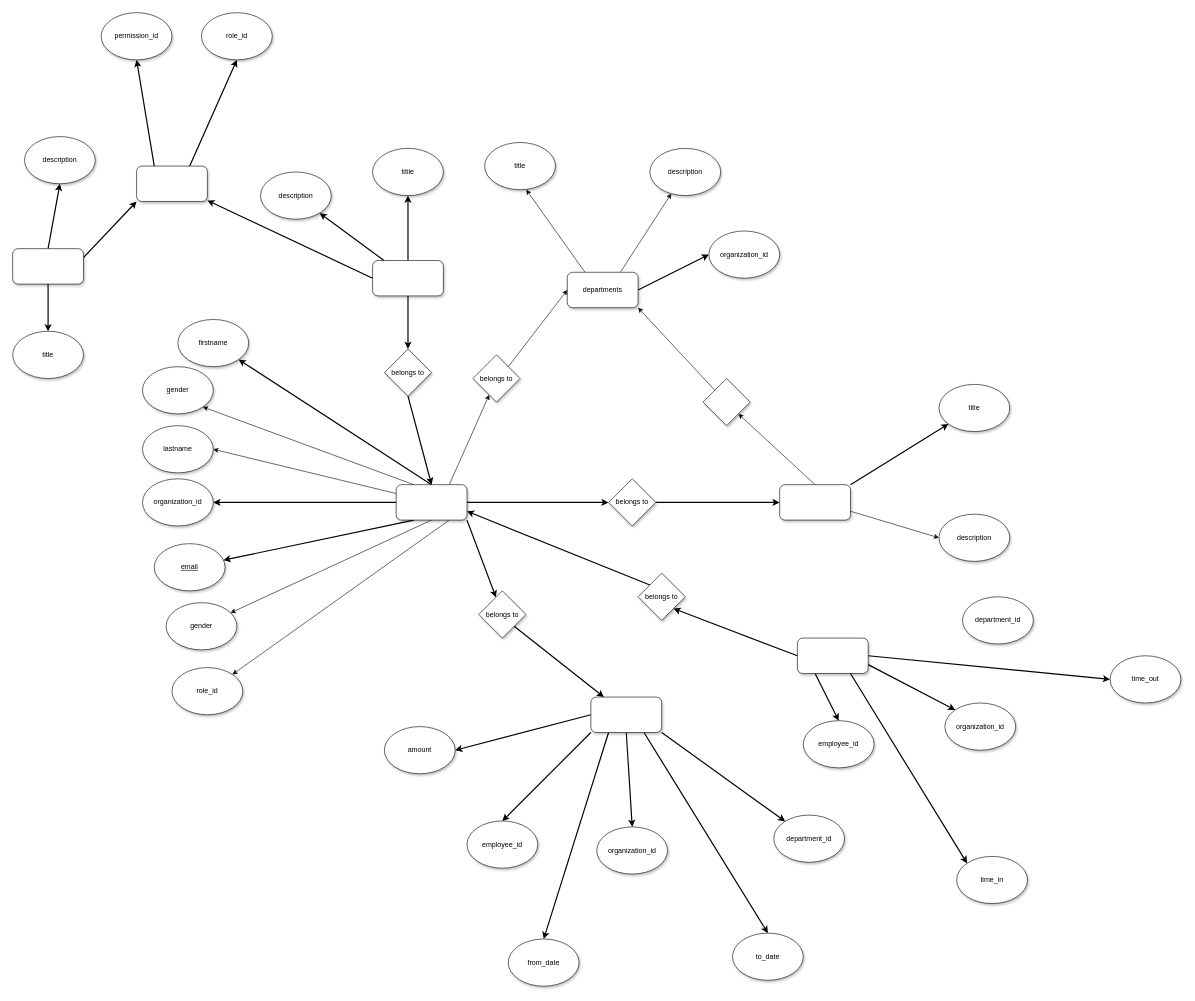
The diagram is 1195 pixels wide and 1001 high, and some of its shapes have lost their labels. The centre of each missing label's shape, as x and y in pixels:
"Employees" belongs at (x=432, y=503).
"has" belongs at (x=727, y=403).
"Organization" belongs at (x=815, y=503).
"permission" belongs at (x=48, y=267).
"role" belongs at (x=408, y=279).
"role_perssion" belongs at (x=172, y=184).
"salary" belongs at (x=626, y=715).
"timekeeping" belongs at (x=833, y=656).
